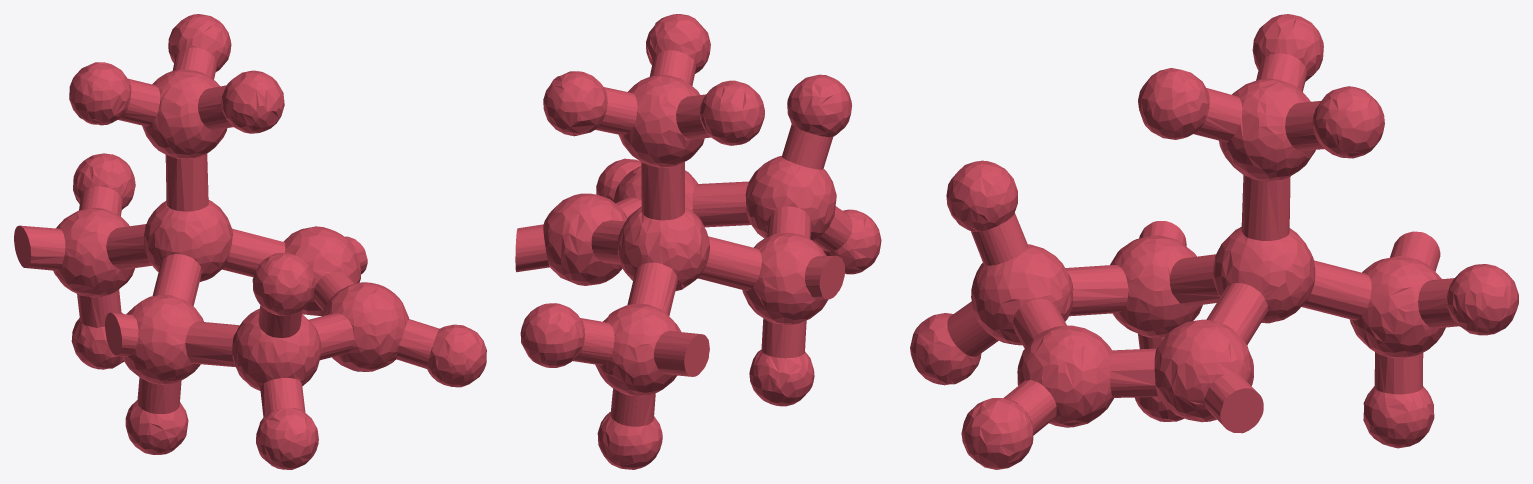
The model's file is molpiece2.glb.
3 renders of one model, left to right at view 1: azimuth 30°, elevation 25°; view 2: azimuth 150°, elevation 25°; view 3: azimuth 270°, elevation 25°, orthographic. The views are drawn at different scales.
Visible parts, largest first — view 1: Mesh_Mesh_head_geo.001_lambert2SG.001; view 2: Mesh_Mesh_head_geo.001_lambert2SG.001; view 3: Mesh_Mesh_head_geo.001_lambert2SG.001.
Boxes of the visible parts, x1,y1,x2,y2 form: Mesh_Mesh_head_geo.001_lambert2SG.001: [14, 14, 486, 469]; Mesh_Mesh_head_geo.001_lambert2SG.001: [515, 14, 881, 469]; Mesh_Mesh_head_geo.001_lambert2SG.001: [910, 14, 1518, 469].
Bounding box in the file's own units: 32.19 × 36.25 × 49.68.
